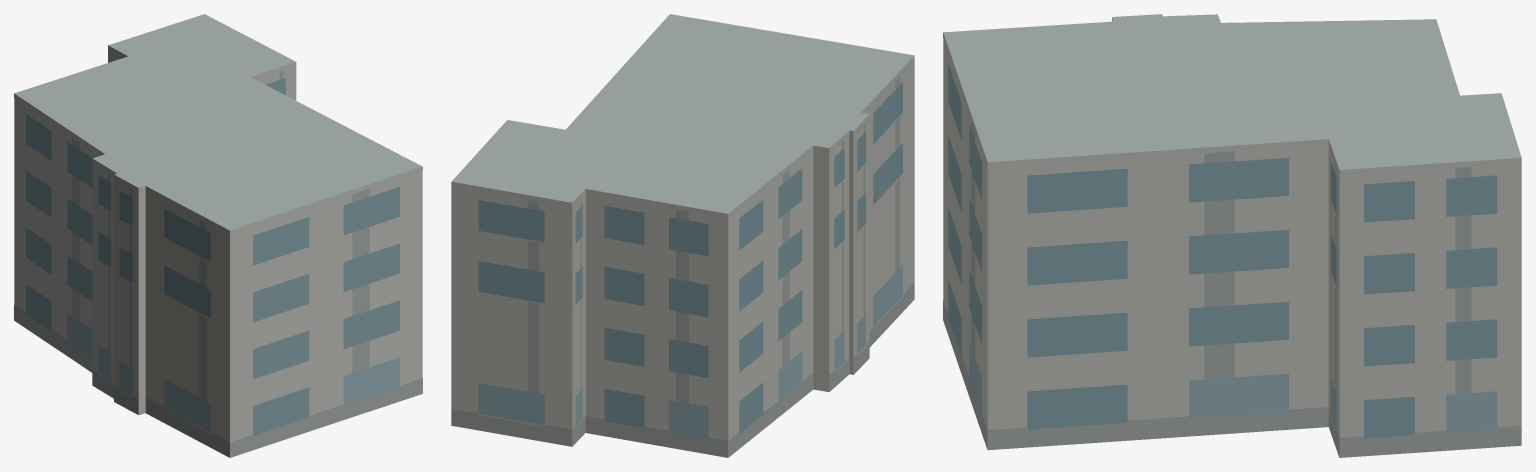
File: survey-upis-32558184.glb
The picture shows the model from 3 angles, left to right: view 1: azimuth 30°, elevation 25°; view 2: azimuth 150°, elevation 25°; view 3: azimuth 270°, elevation 25°; orthographic projection. The views are drawn at different scales.
Parts seen in each view (by area): view 1: survey-upis-32558184.tmp; view 2: survey-upis-32558184.tmp; view 3: survey-upis-32558184.tmp.
Part boxes in pixels (left/top/right/bottom): survey-upis-32558184.tmp: left=14, top=14, right=422, bottom=457; survey-upis-32558184.tmp: left=451, top=14, right=914, bottom=457; survey-upis-32558184.tmp: left=943, top=14, right=1521, bottom=457.
Bounding box in the file's own units: 14.19 × 12.2 × 22.23.
